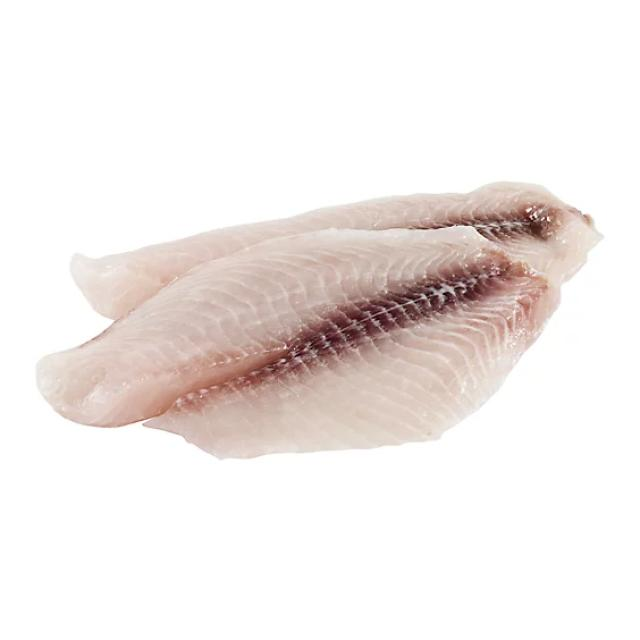lemon: (31, 175, 598, 462)
